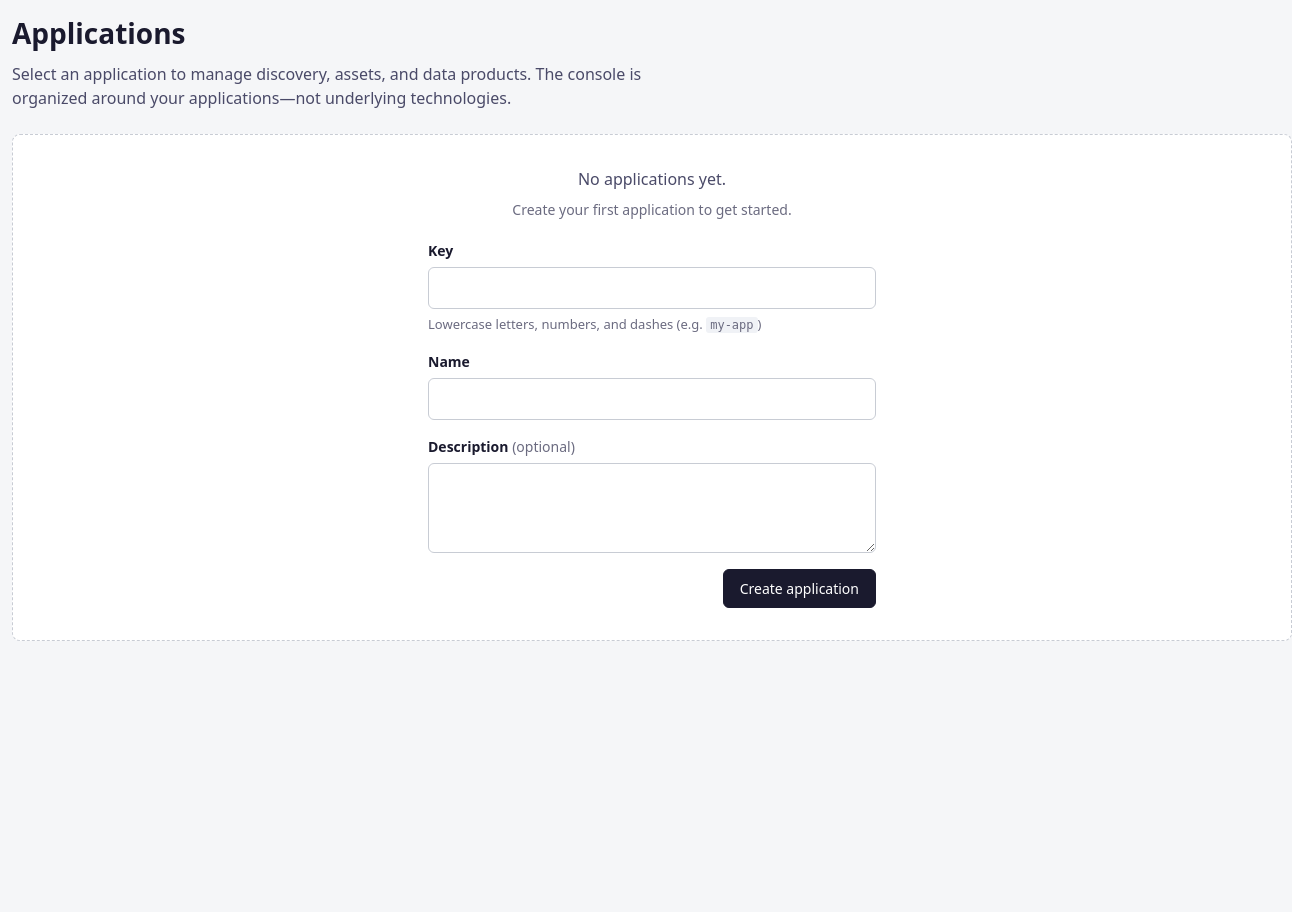
ApplicationsPage › shows client validation errors for required fields
The image size is (1292, 912).
Expected: the text "No applications yet." is shown, x1=578 y1=168 x2=726 y2=190
Click the button "Create application". click: (799, 588)
box: x1=723 y1=568 x2=876 y2=608
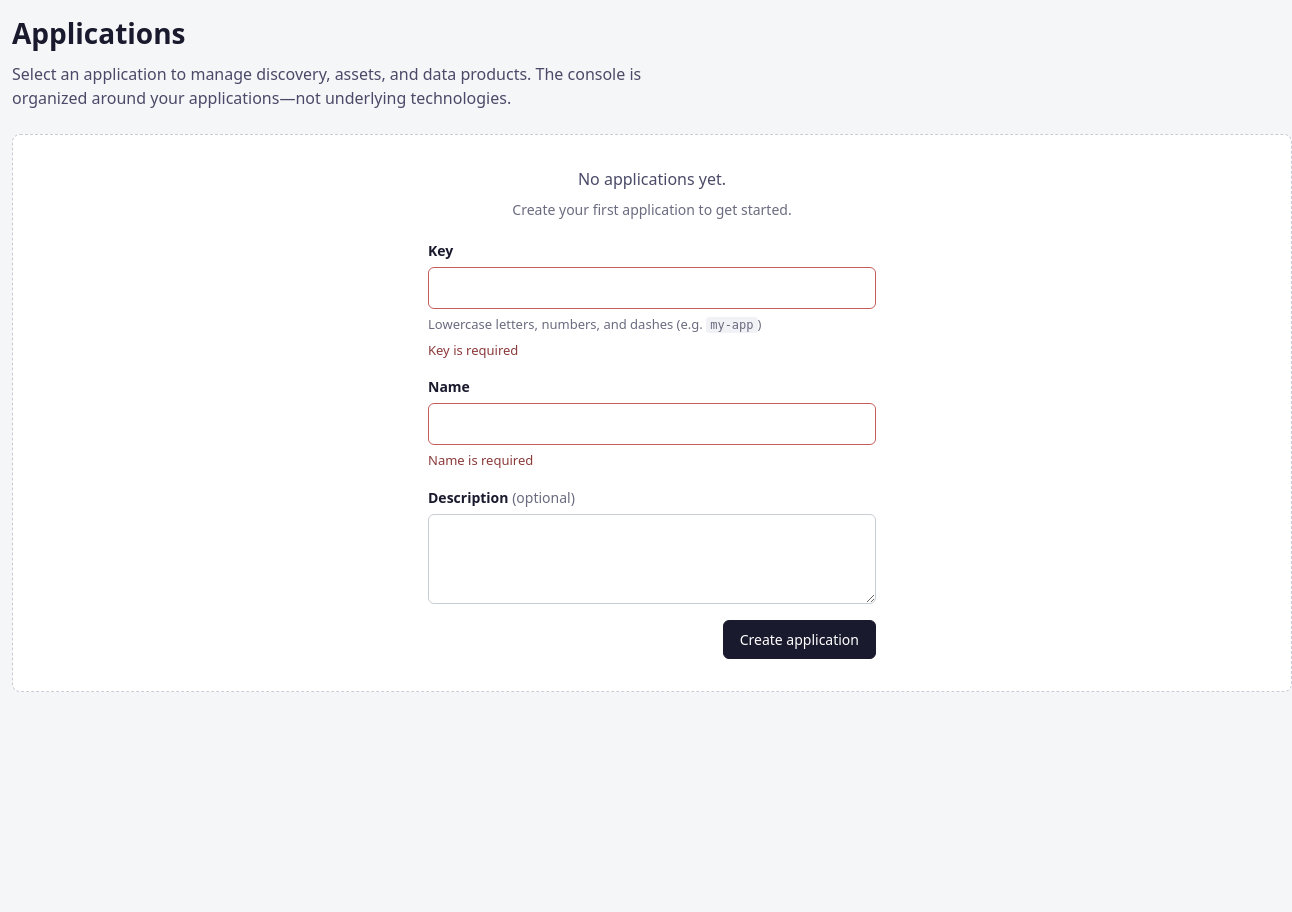
Result: the text "Key is required" is shown at x1=428 y1=340 x2=518 y2=358
Result: the text "Name is required" is shown at x1=428 y1=451 x2=533 y2=469
